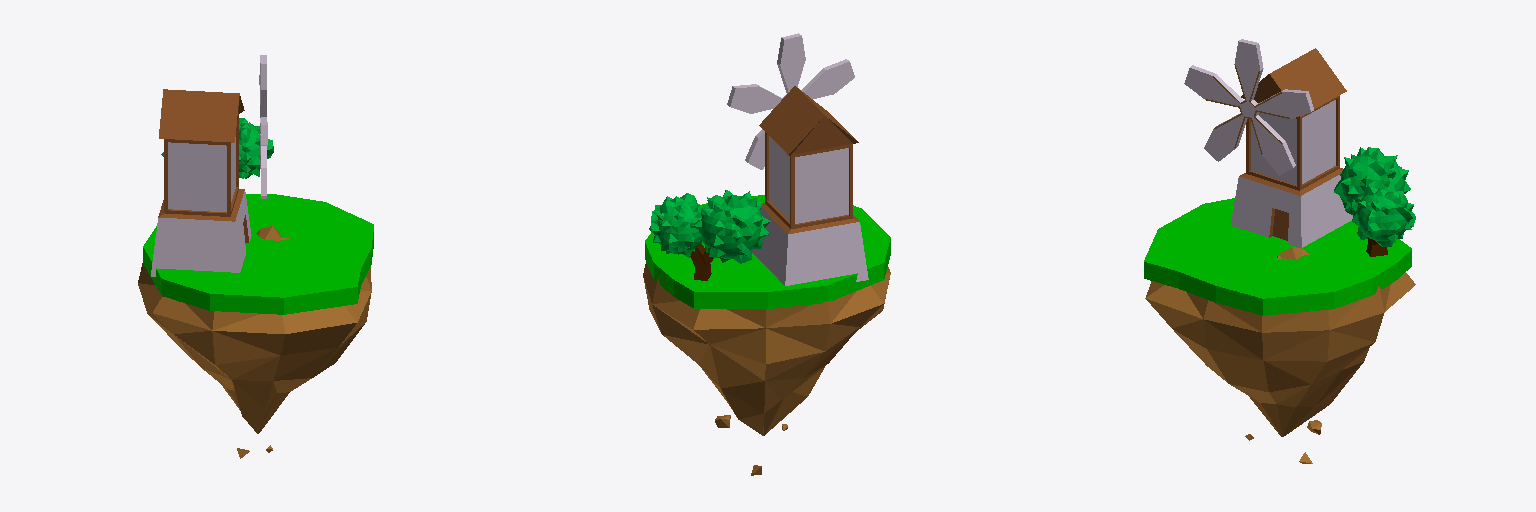
File: GameStage_1(skyisland).obj
3 renders of one model, left to right at view 1: azimuth 30°, elevation 25°; view 2: azimuth 150°, elevation 25°; view 3: azimuth 270°, elevation 25°, orthographic.
Parts seen in each view (by area): view 1: Green_platform, Island, Mill, Tree, propeller; view 2: Island, Mill, Green_platform, Tree, propeller; view 3: Island, Green_platform, Mill, propeller, Tree.
Part boxes in pixels (left/top/right/bottom): Green_platform: left=143, top=194, right=373, bottom=314; Island: left=138, top=226, right=371, bottom=458; Mill: left=151, top=89, right=251, bottom=276; Tree: left=161, top=118, right=273, bottom=178; propeller: left=259, top=55, right=267, bottom=198; Island: left=643, top=263, right=890, bottom=475; Mill: left=751, top=86, right=868, bottom=285; Green_platform: left=645, top=195, right=890, bottom=308; Tree: left=649, top=190, right=770, bottom=280; propeller: left=727, top=33, right=854, bottom=169; Island: left=1145, top=247, right=1415, bottom=463; Green_platform: left=1144, top=198, right=1411, bottom=315; Mill: left=1231, top=48, right=1352, bottom=247; propeller: left=1184, top=39, right=1313, bottom=175; Tree: left=1334, top=147, right=1415, bottom=256.
Size of the model in its own units: 41.48 by 75.69 by 44.51.